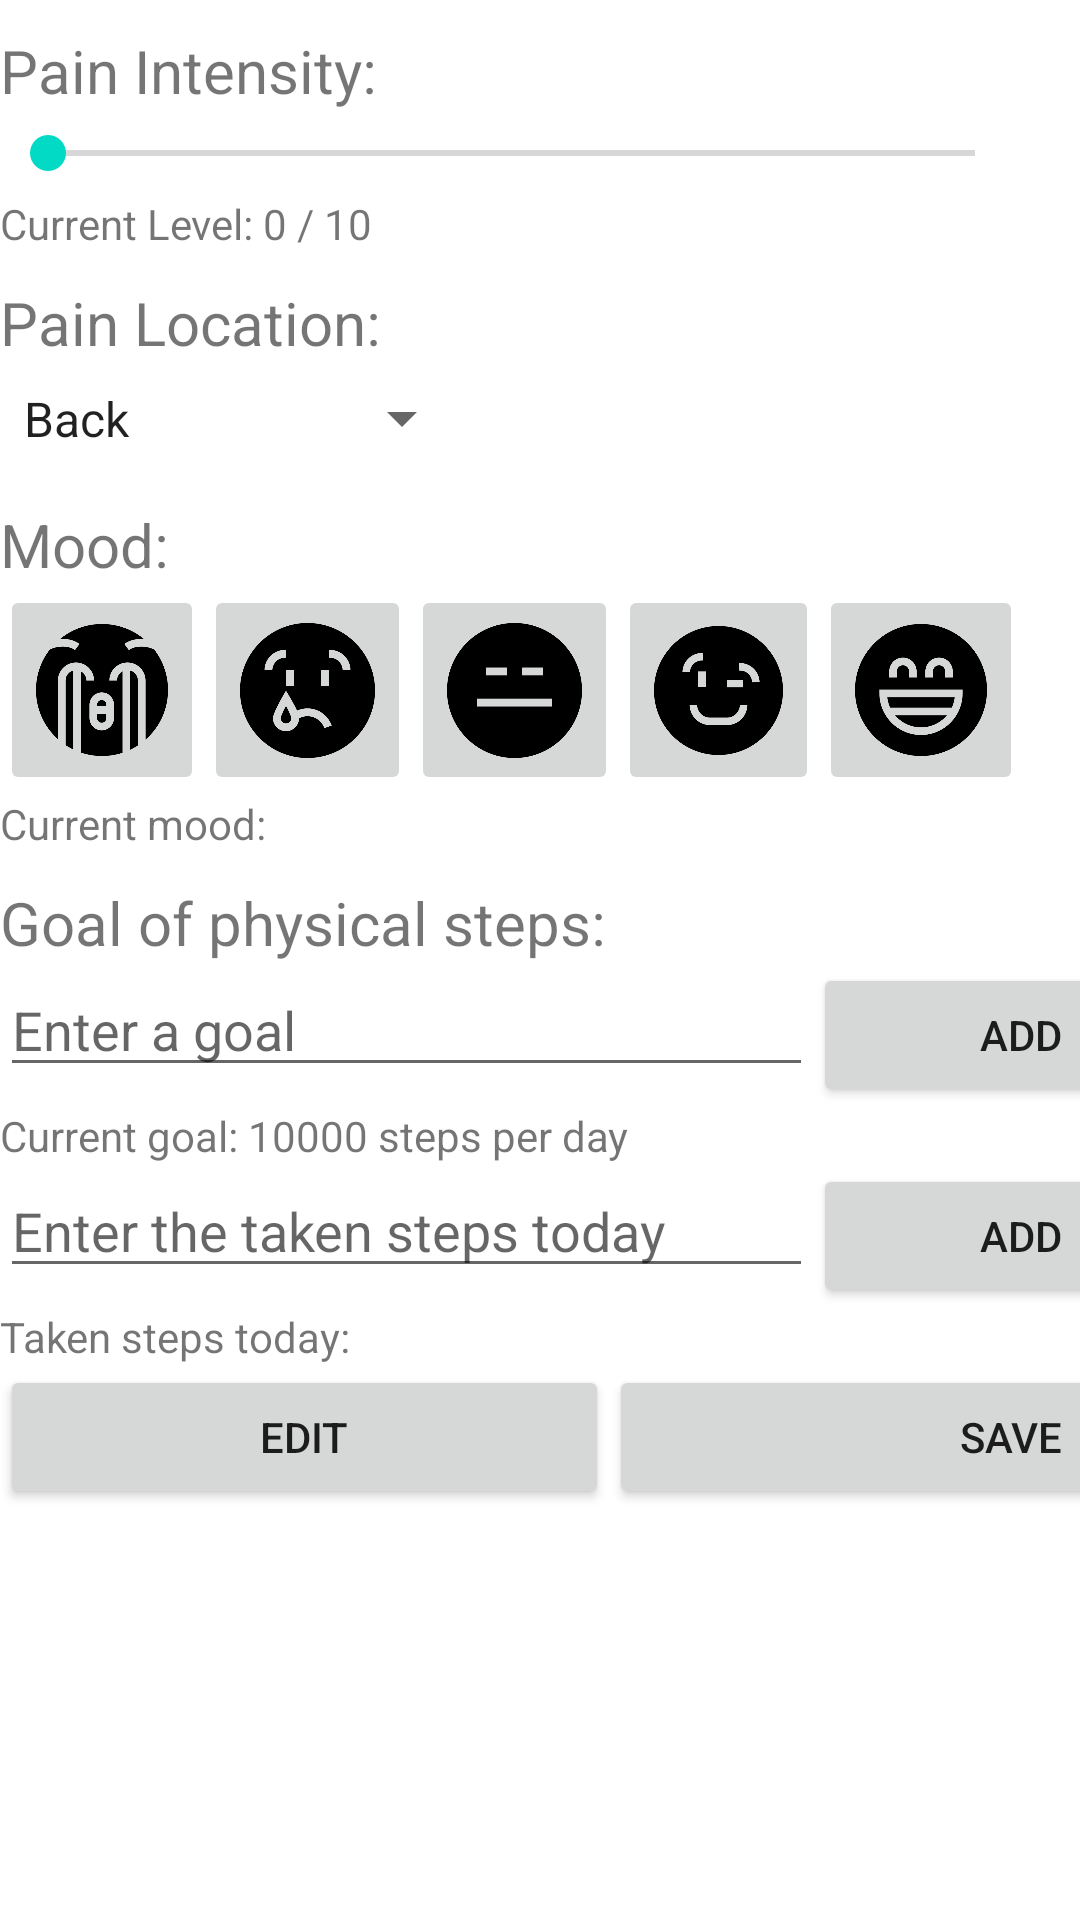

Screen size 1080x1920. Icon name, then its center in pixels as (x=x, y=y):
average: (x=514, y=690)
good: (x=718, y=690)
low: (x=307, y=690)
very good: (x=921, y=690)
very low: (x=102, y=690)
